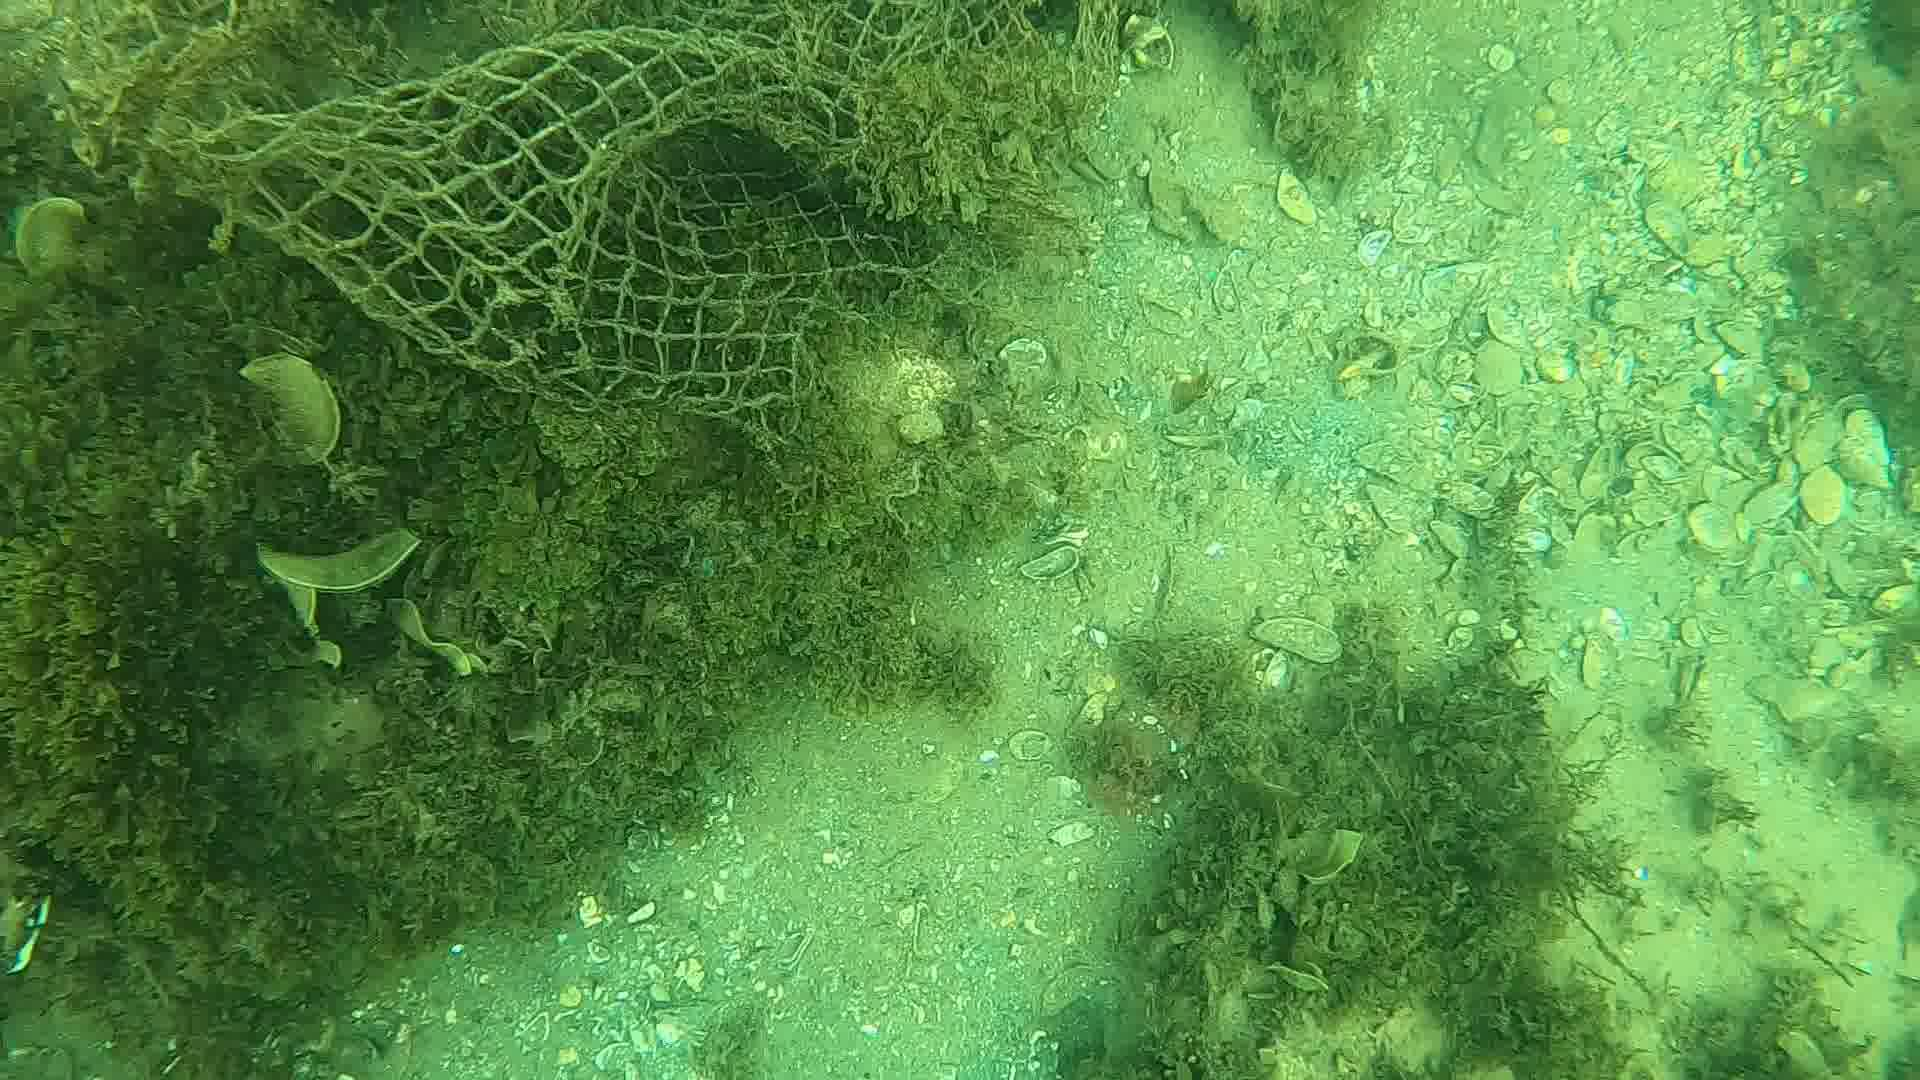fish net: (191, 0, 1054, 421)
